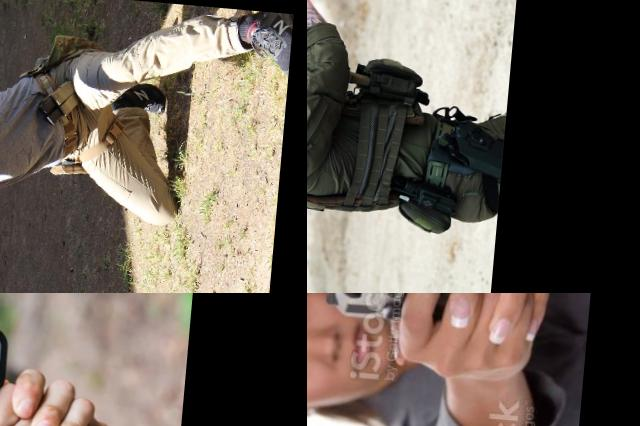handgun: (0, 293, 120, 426), (319, 293, 478, 351), (307, 0, 332, 18)
